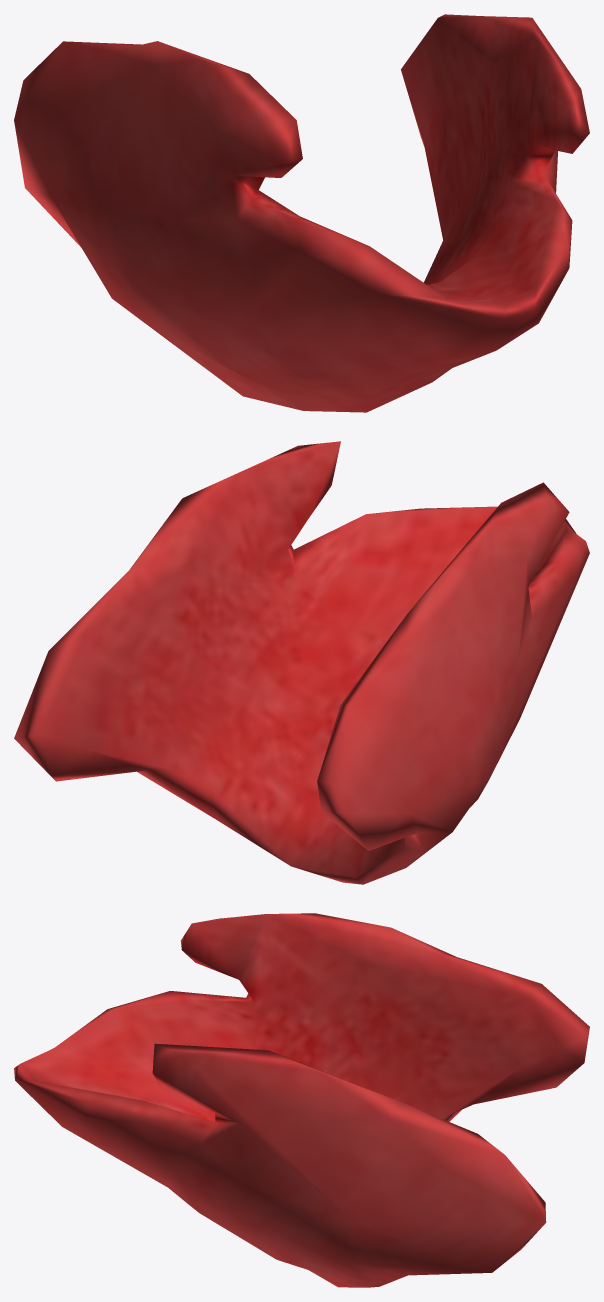
The model's file is Laryngeal_Cartilages_Thyroid.glb.
The picture shows the model from 3 angles, top to bottom: view 1: azimuth 30°, elevation 25°; view 2: azimuth 150°, elevation 25°; view 3: azimuth 270°, elevation 25°; orthographic projection. The views are drawn at different scales.
Parts seen in each view (by area): view 1: laryngeal_cartilages_thyroid.001; view 2: laryngeal_cartilages_thyroid.001; view 3: laryngeal_cartilages_thyroid.001.
Part boxes in pixels (bbox=[...]): laryngeal_cartilages_thyroid.001: bbox=[14, 14, 589, 412]; laryngeal_cartilages_thyroid.001: bbox=[14, 441, 589, 884]; laryngeal_cartilages_thyroid.001: bbox=[14, 913, 589, 1287].
Bounding box in the file's own units: 0.0586 × 0.0543 × 0.0893.
Materials: 1 (1 with a texture image).
